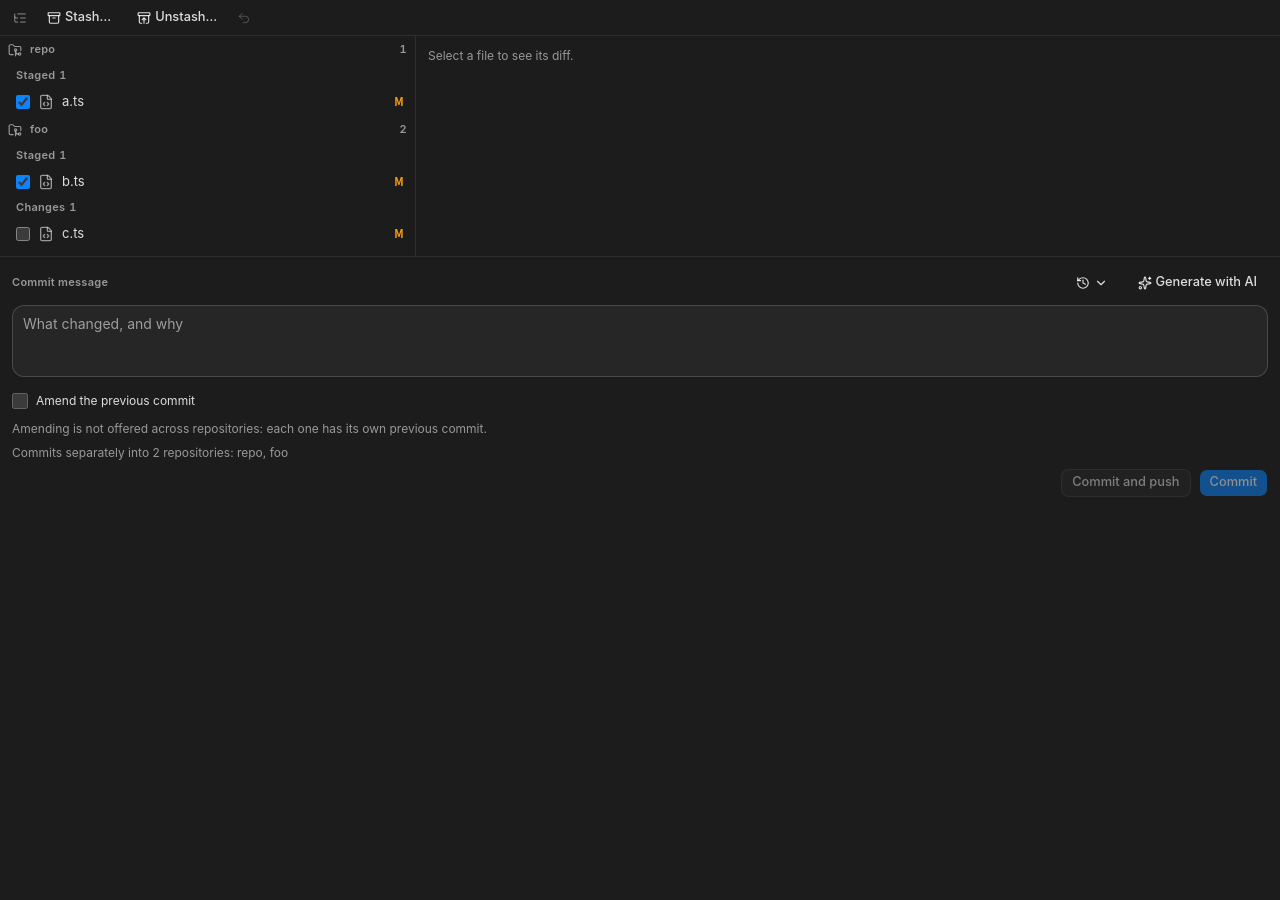
it: cross-repository commit › asks for confirmation before the push half of commit and push
Type "fix: push me" into the text box named "Commit message" at (640, 341), box [12,305,1268,377]
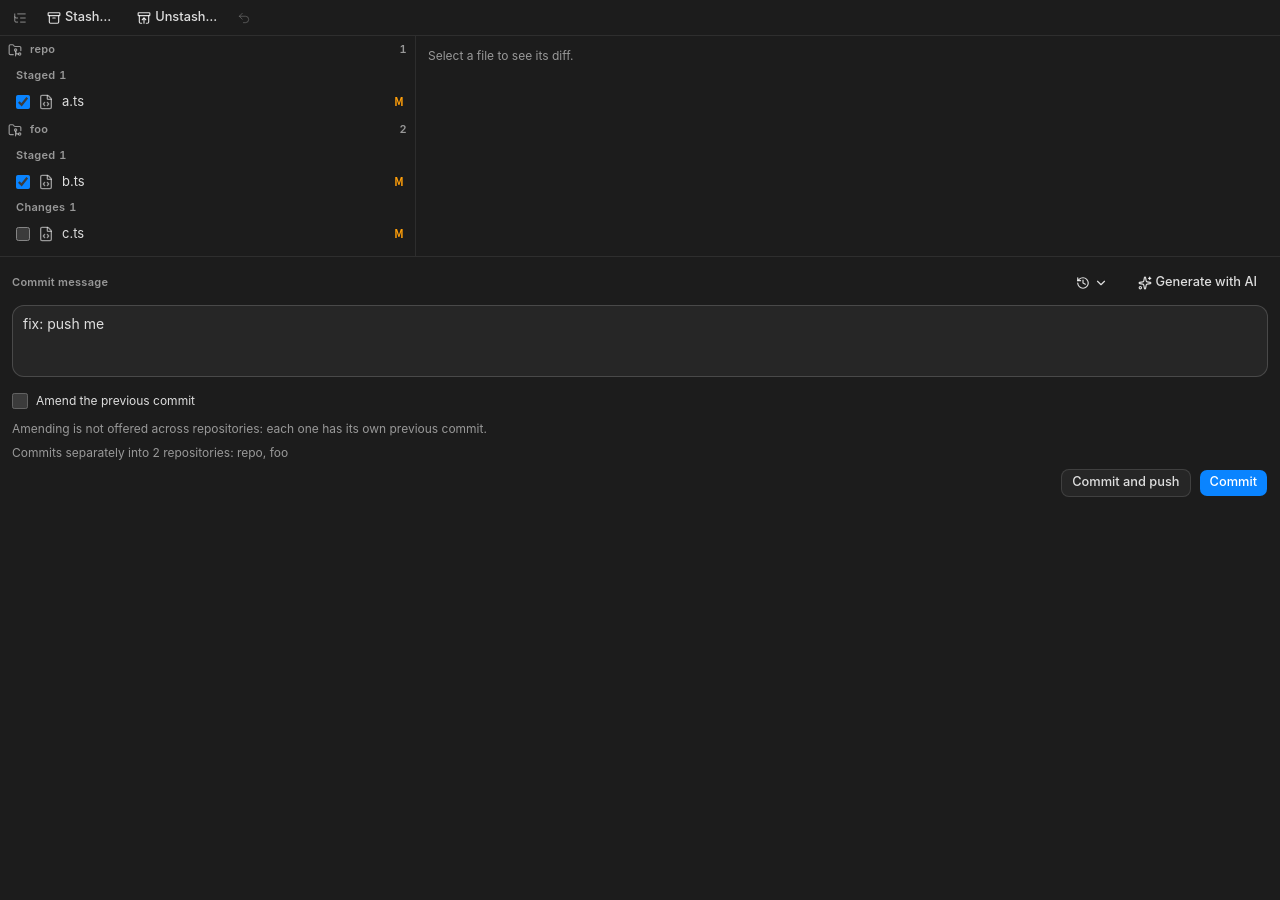
Click the button "Commit and push" at (1126, 483), box [1061,469,1190,497]
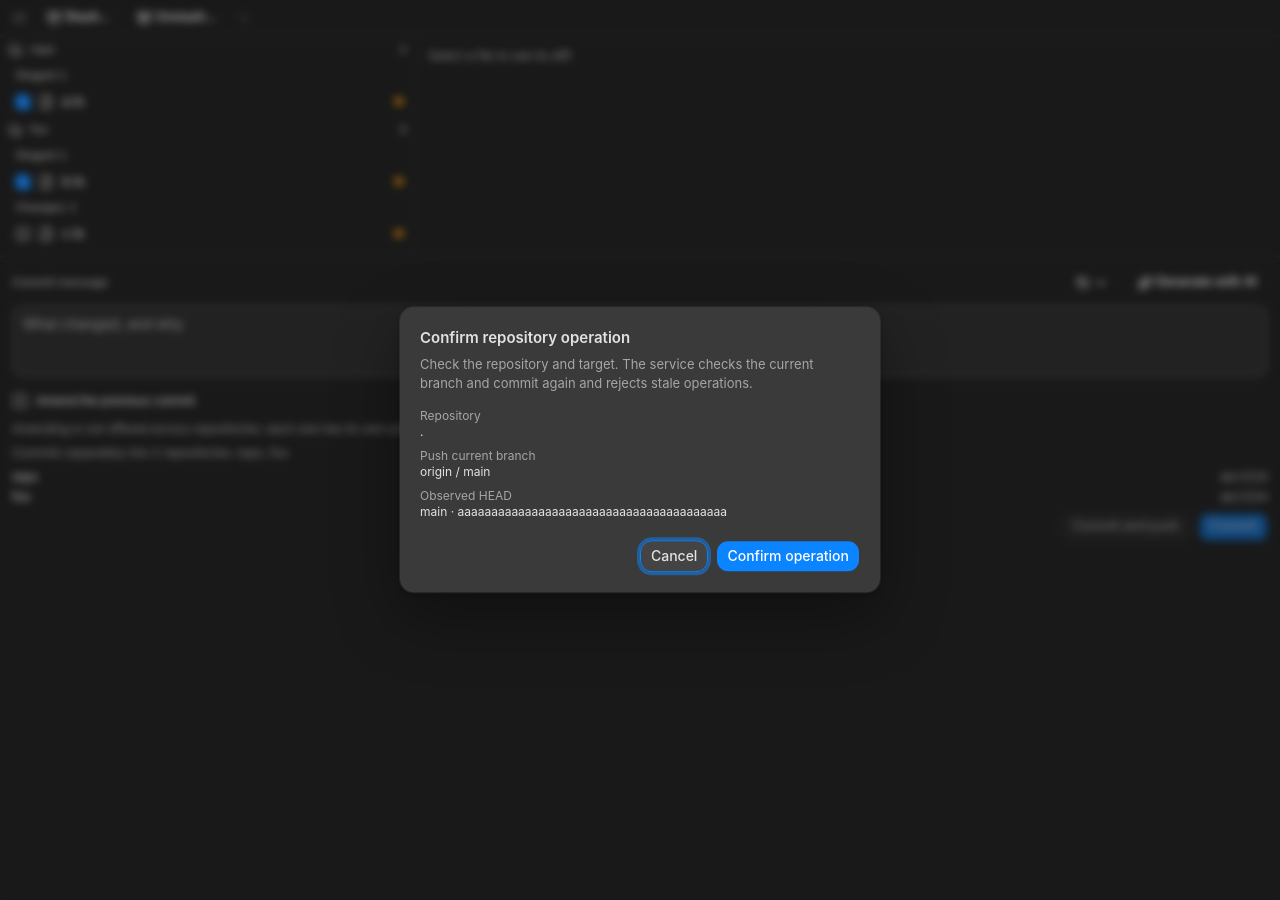
Result: the dialog is shown at [400,307,880,593]
